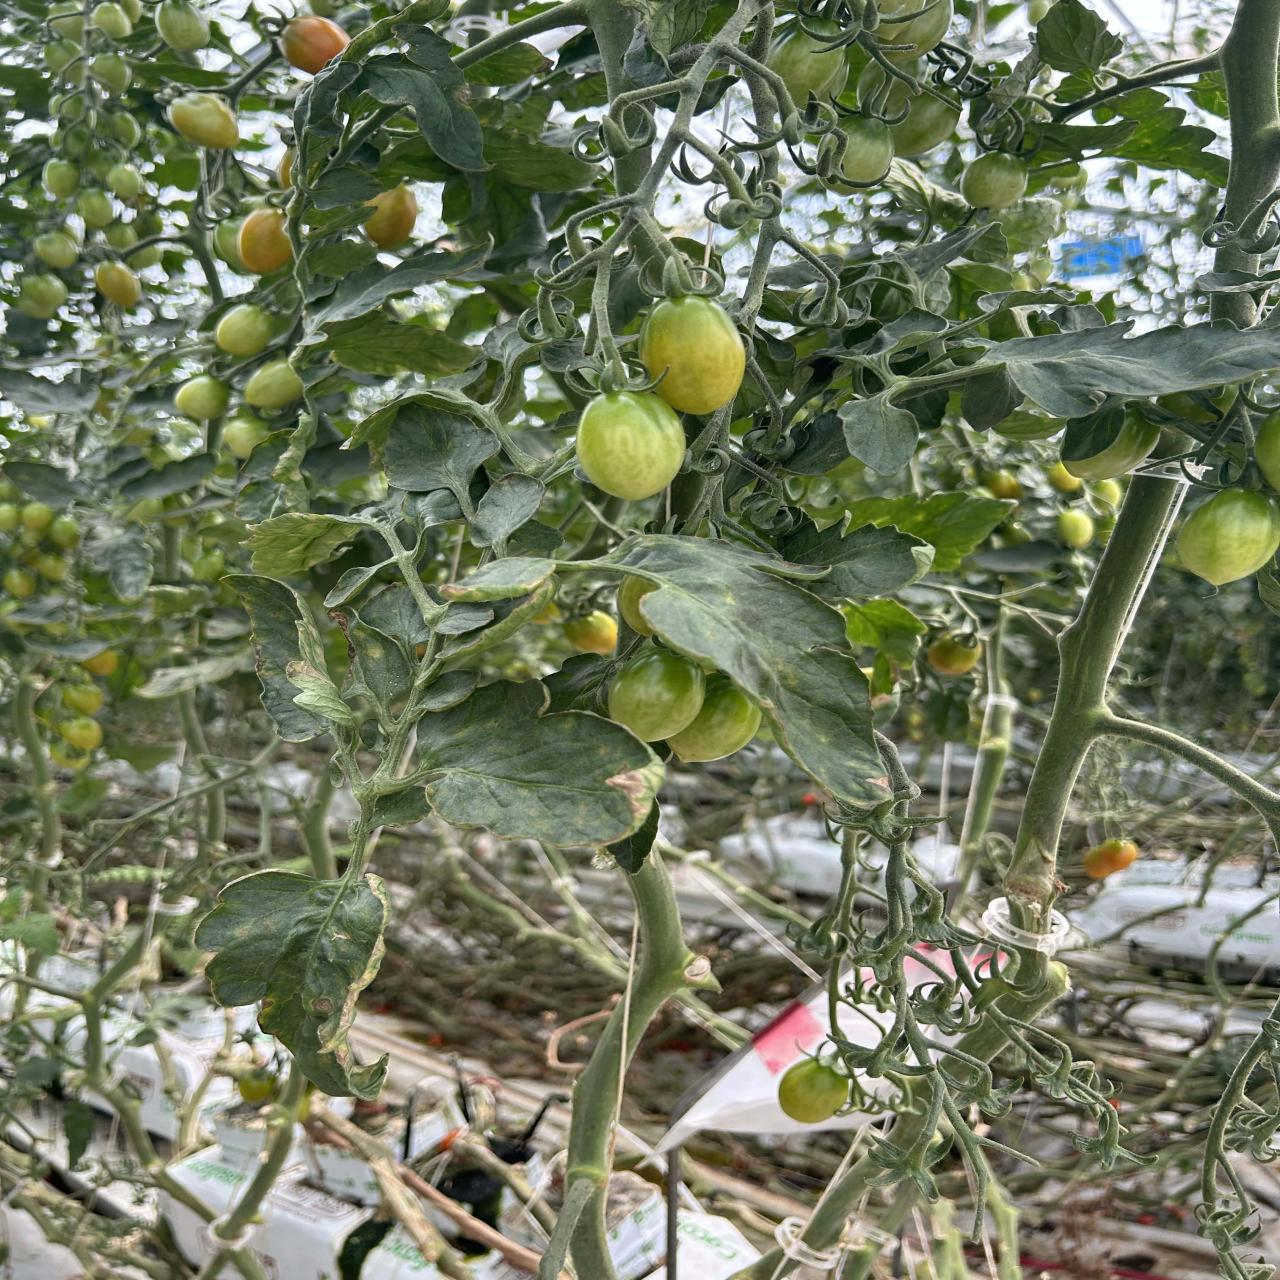Rugose leaf: (197, 865, 388, 1096), (411, 680, 658, 844), (245, 506, 404, 579), (999, 198, 1062, 253)
Rugose tomato: (1063, 413, 1160, 481), (279, 16, 349, 75), (237, 207, 292, 274), (363, 184, 418, 250), (563, 611, 618, 655), (927, 633, 981, 675)
